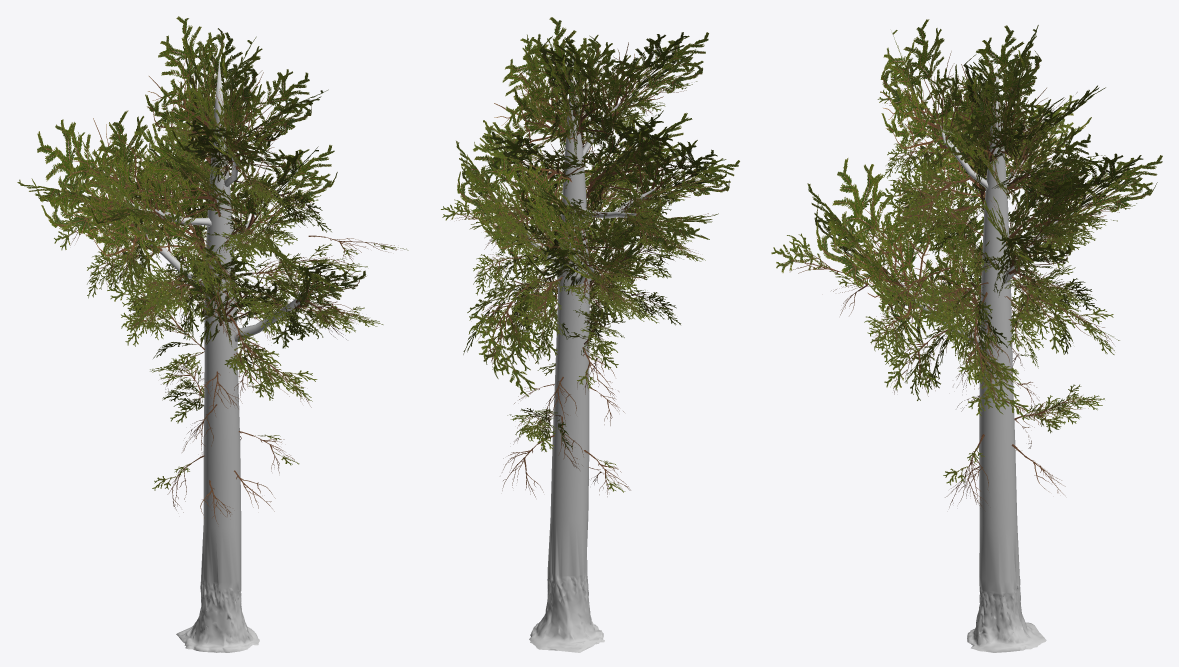
File: redwood_05.obj
3 views of the same model, side by side, from view 1: azimuth 30°, elevation 25°; view 2: azimuth 150°, elevation 25°; view 3: azimuth 270°, elevation 25° (orthographic). The views are drawn at different scales.
Parts seen in each view (by area): view 1: Redwood_05; view 2: Redwood_05; view 3: Redwood_05.
Part boxes in pixels (<box>): Redwood_05: <box>17,16,408,652</box>; Redwood_05: <box>441,17,739,652</box>; Redwood_05: <box>771,19,1162,652</box>.
Bounding box in the file's own units: 35.75 × 68.4 × 40.41.
